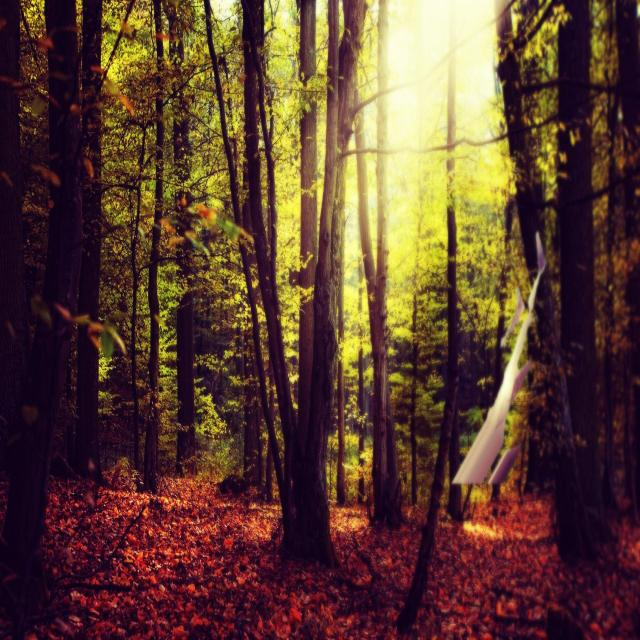airplane: (451, 230, 546, 487)
